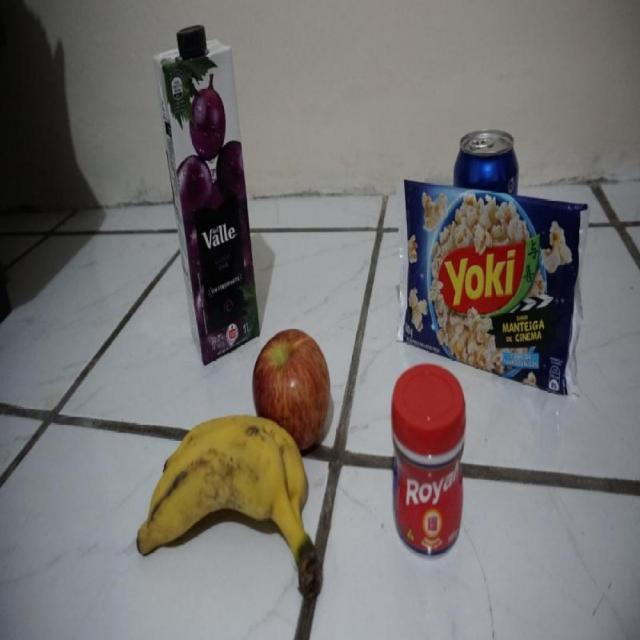Apple: (253, 329, 332, 457)
Banana: (136, 414, 324, 599)
Popcorn: (396, 175, 590, 399)
SodaCan: (452, 130, 525, 193)
Yeast: (391, 364, 466, 560)
